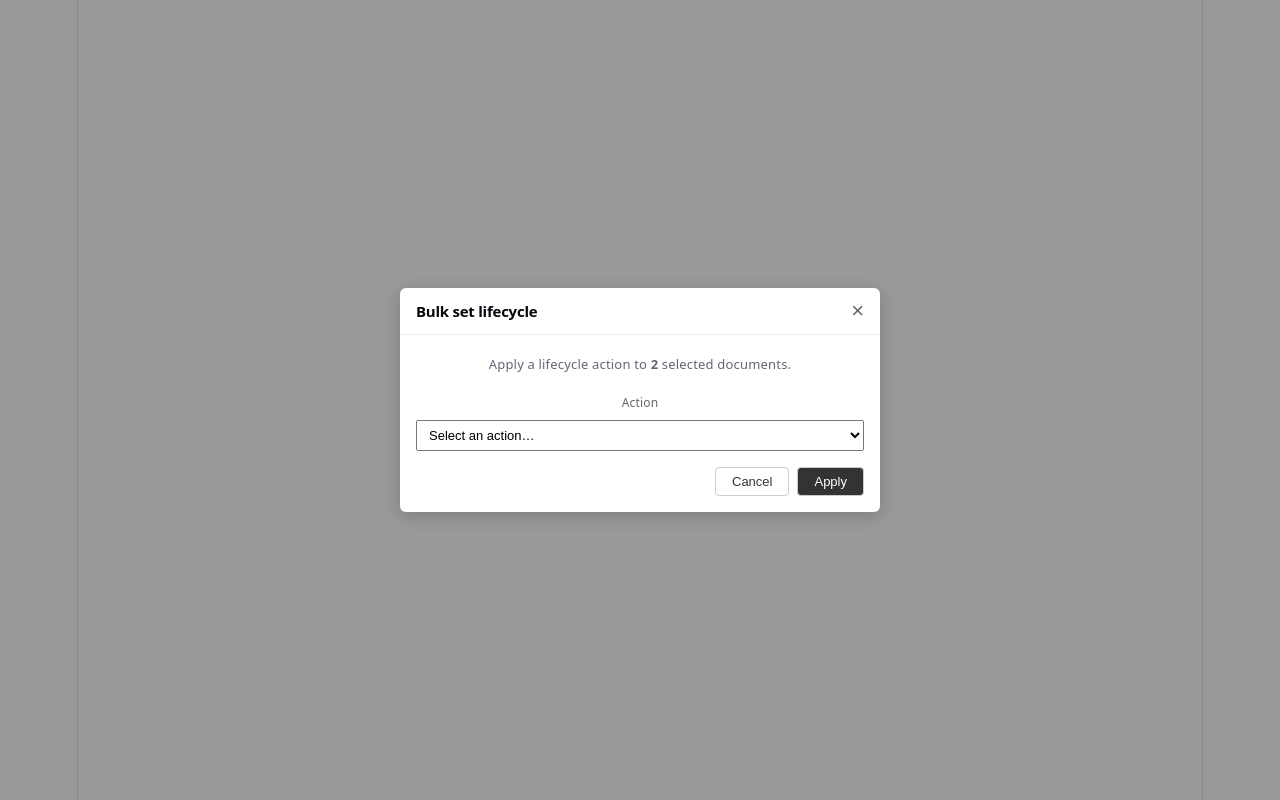
Test: BulkLifecycleDialog › renders per-item success/failure counts and the failed entry detail
Select "archive" in the dropdown labelled "Action" at (640, 435), box [416,420,864,451]
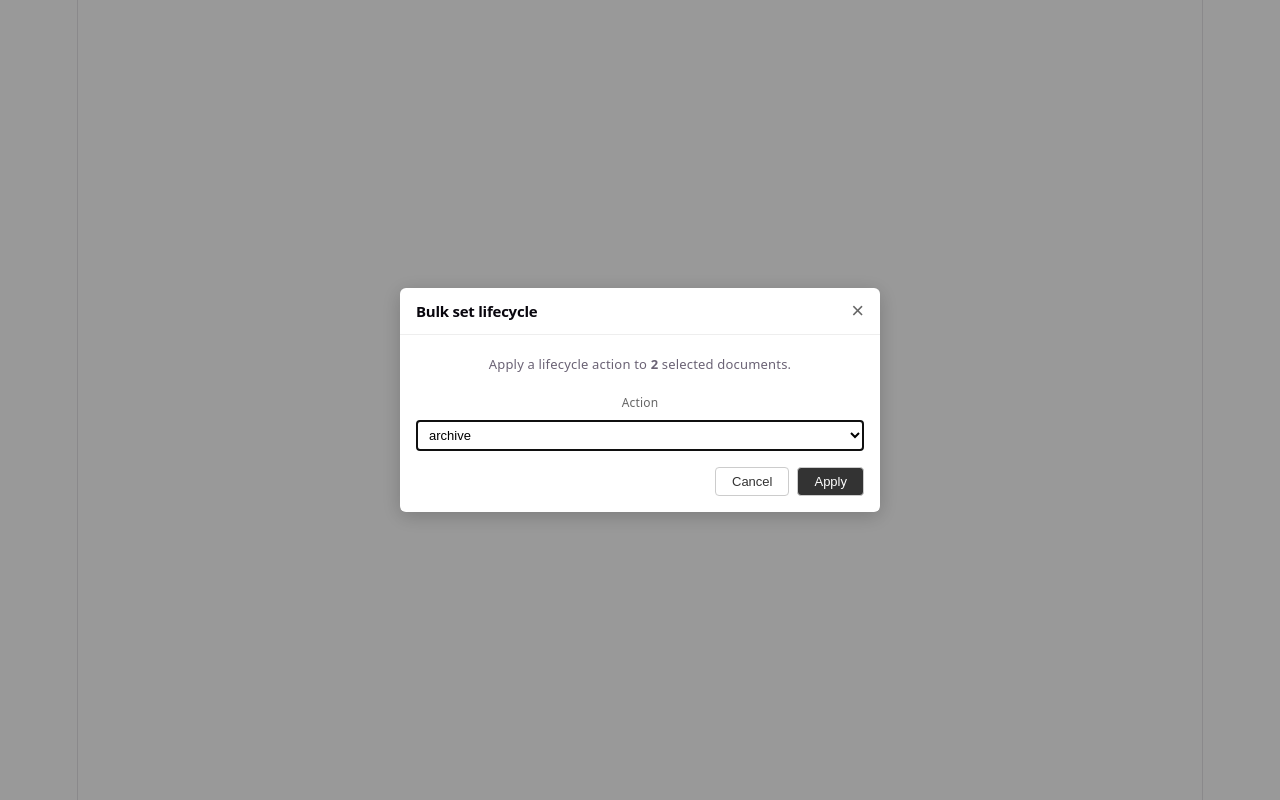
Click the button "Apply" at (831, 481), box [798,467,864,496]
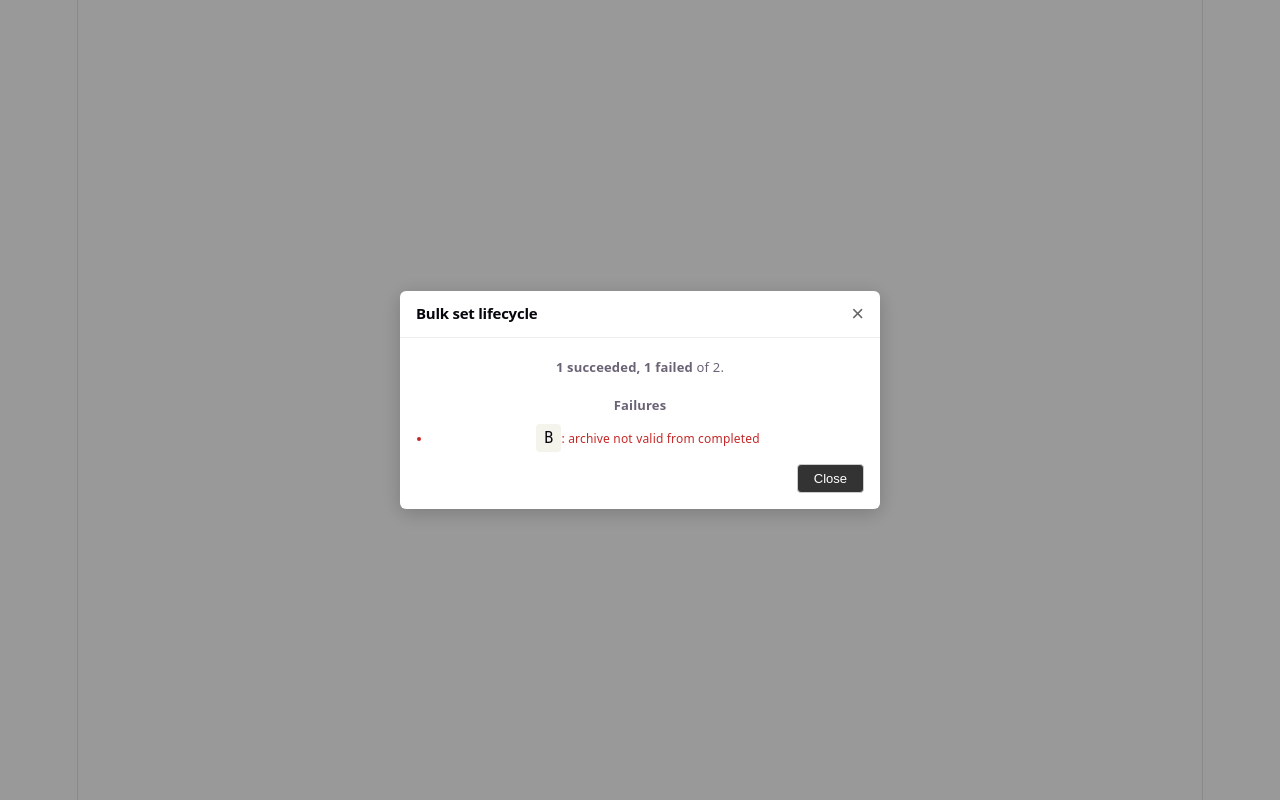
Expected: the element with test id "bulk-lifecycle-results-summary" shows "1 succeeded, 1 failed", [556,358,724,376]
Expected: the text "B" is shown, [536,424,562,452]
Expected: the list item "B : archive not valid from completed" is shown, [536,424,760,452]
